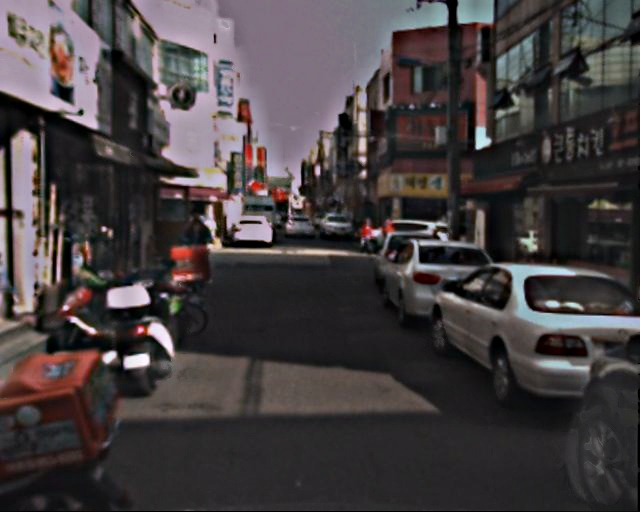person: (180, 207, 221, 306), (381, 218, 398, 260), (360, 215, 376, 255)
